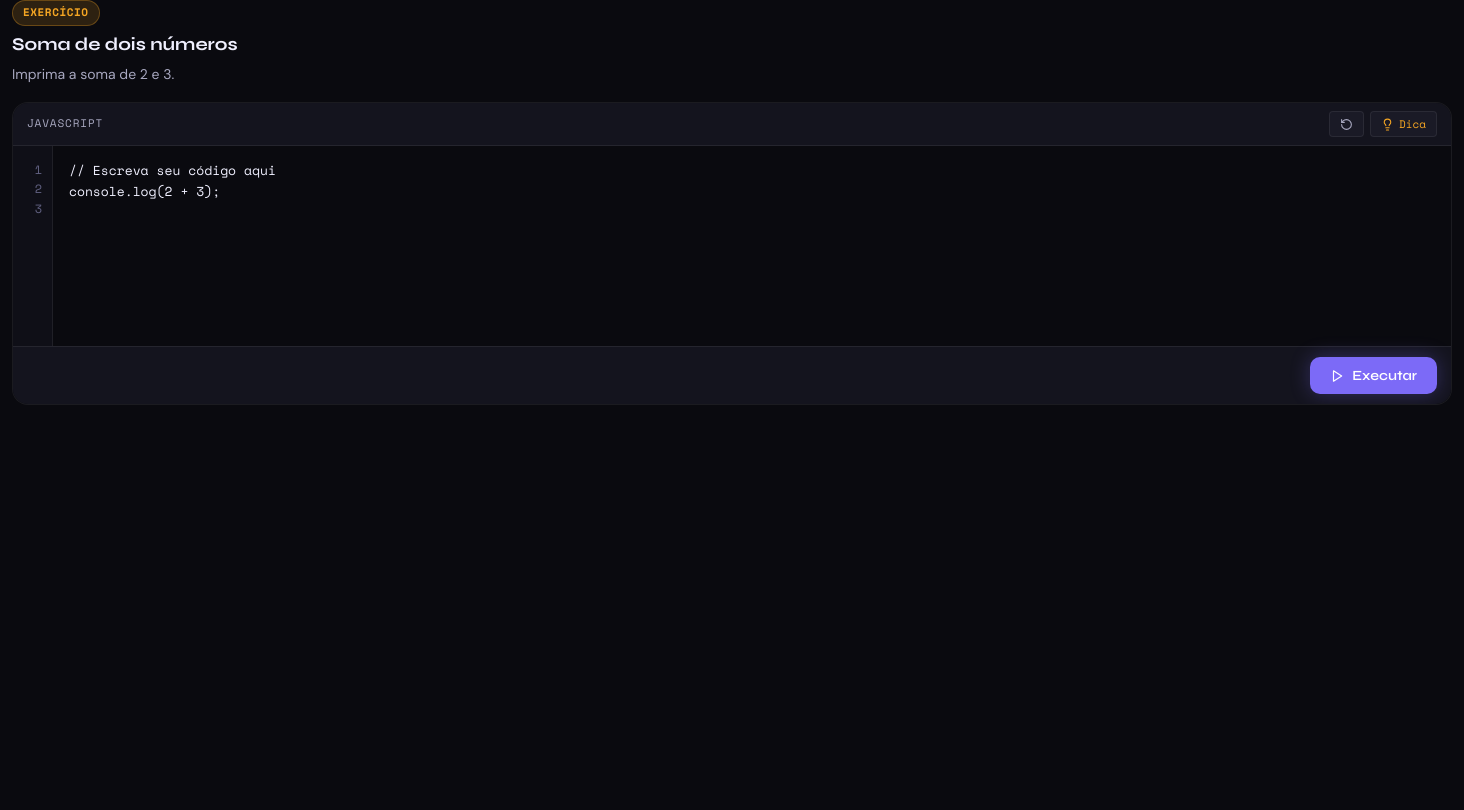
Test: Exercise component › executa código e exibe output correto
Click the button "Executar". click: [1374, 376]
box: [1310,357,1437,394]
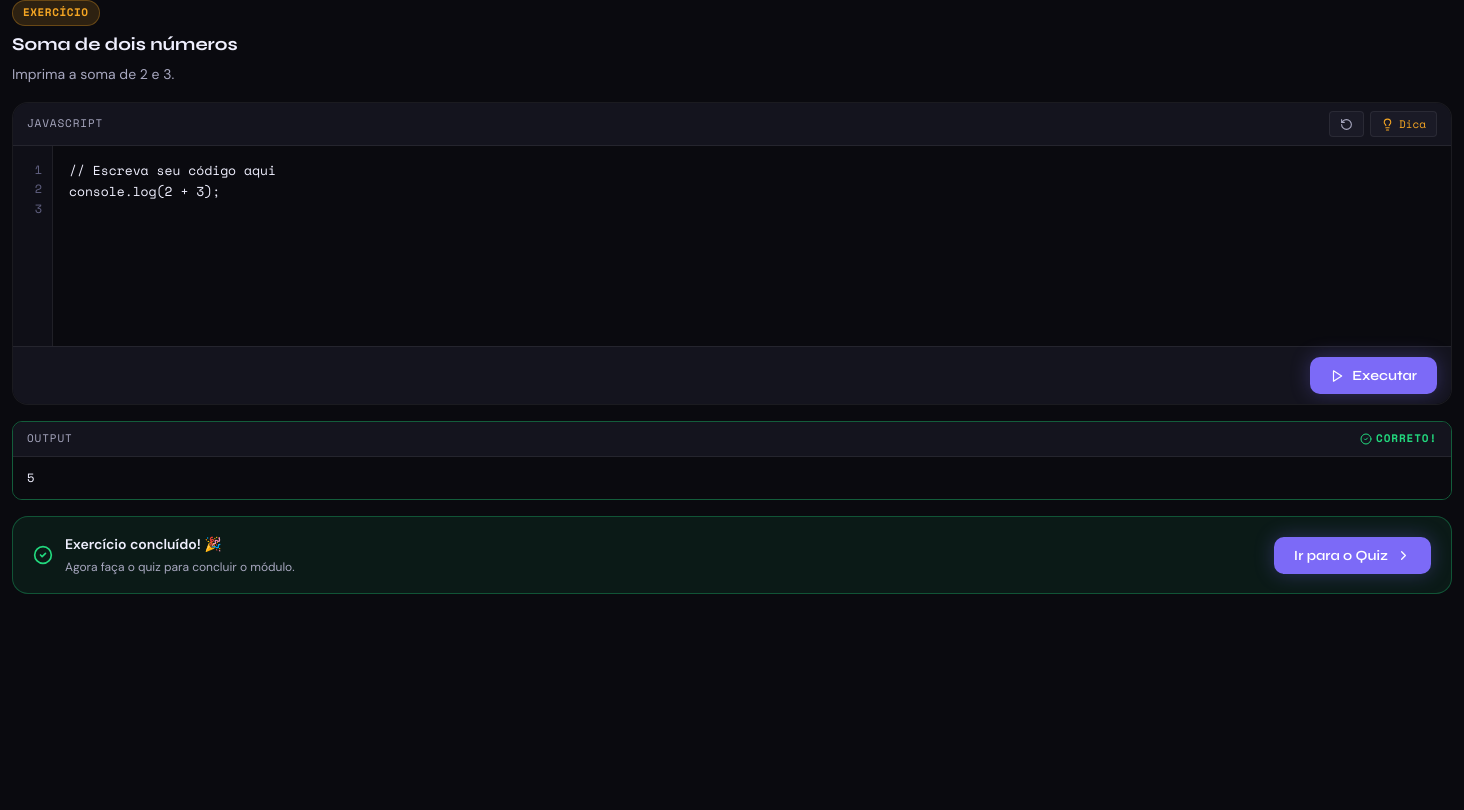
Expected: the text with class "output-pre" reads "5", [27,469,34,486]
